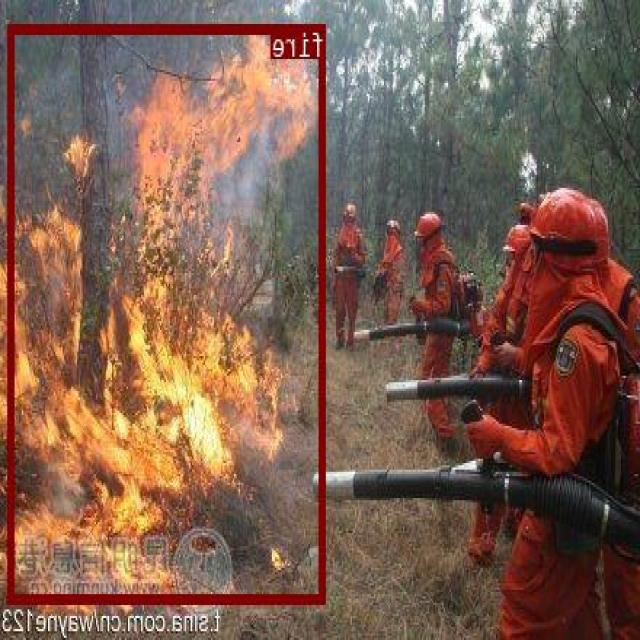fire: (9, 22, 327, 603)
